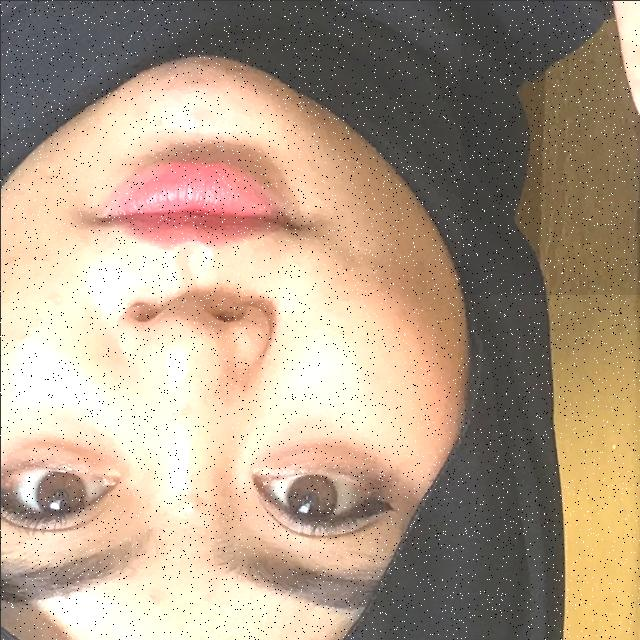kapan: (460, 0, 640, 294)
